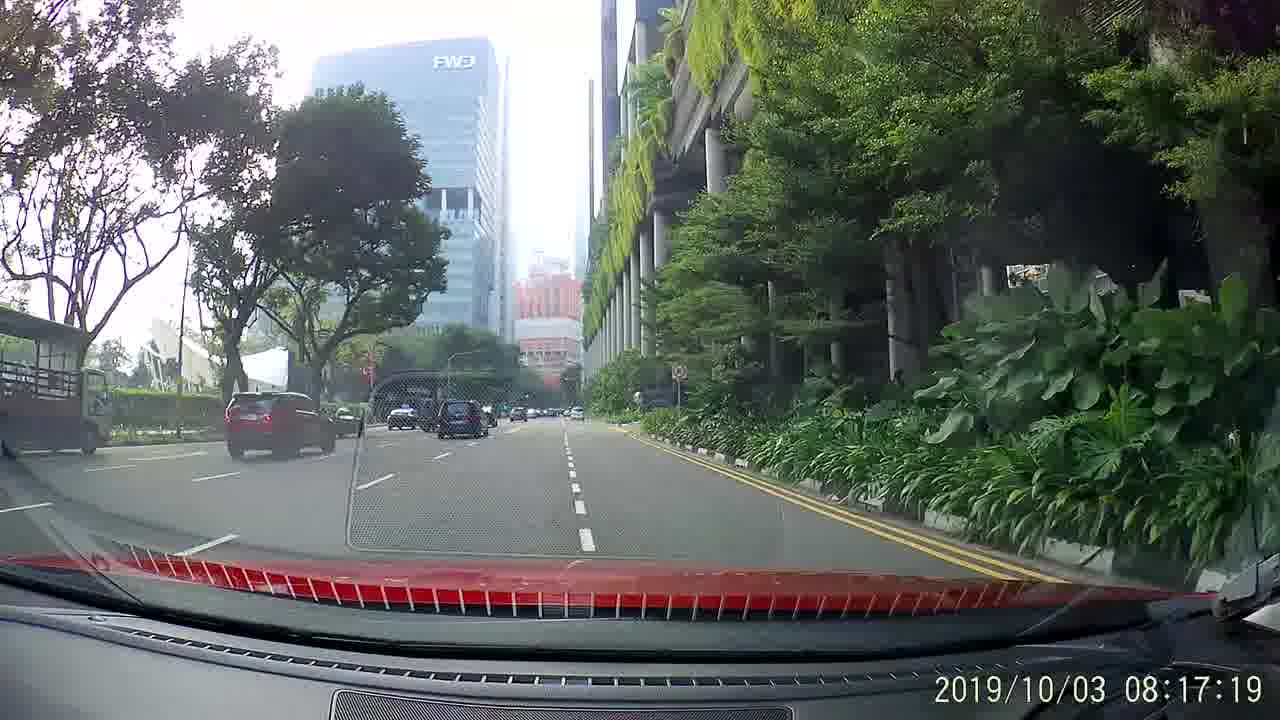car: (221, 385, 339, 460), (434, 395, 487, 439), (386, 407, 416, 429), (508, 406, 528, 422)
